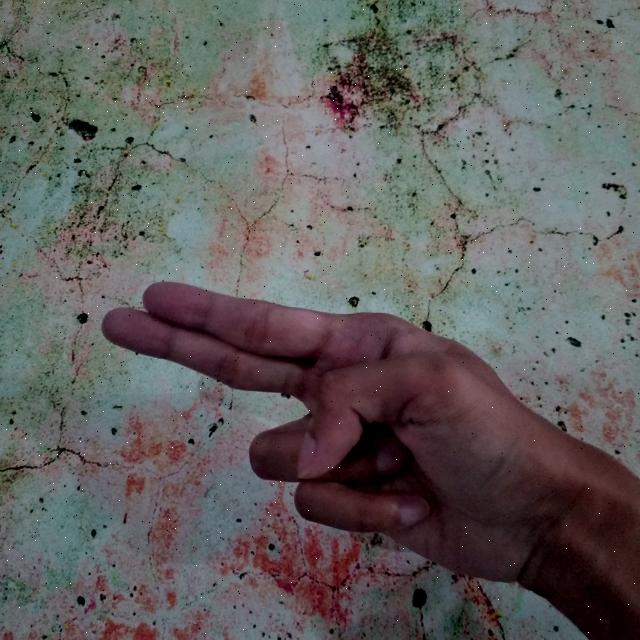H: (93, 273, 640, 640)
